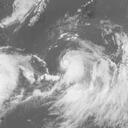cyclone: (59, 49, 89, 79)
